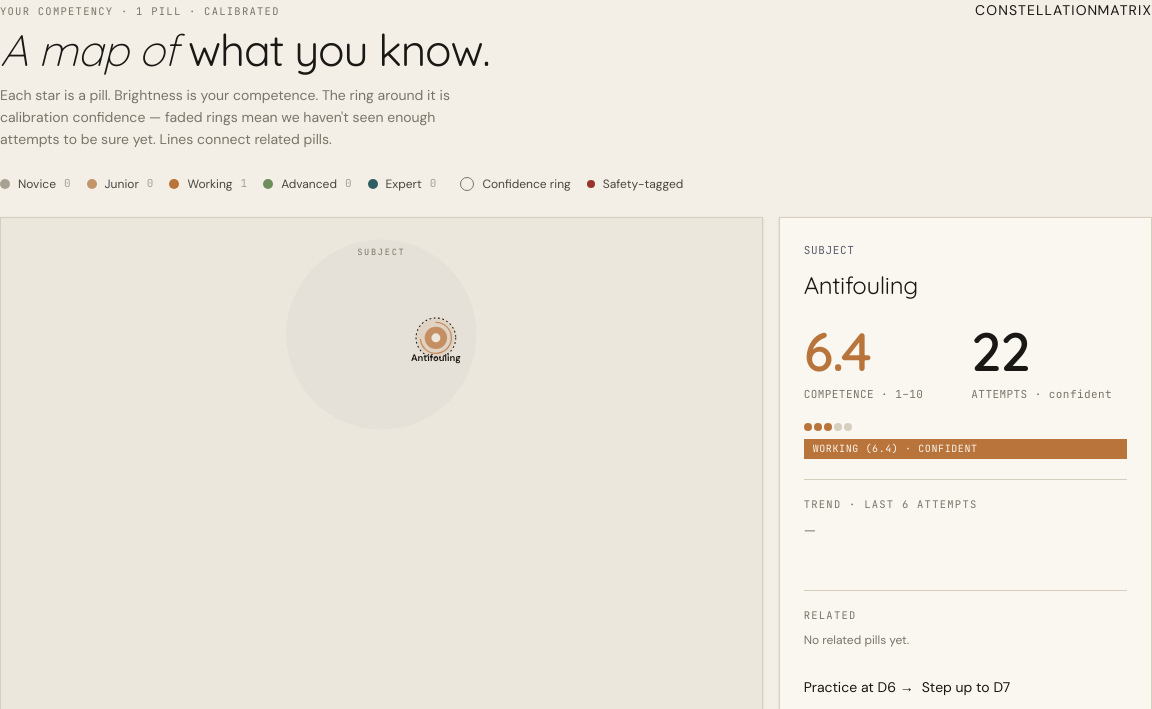
Test: Profile page · happy state › toggles between constellation SVG (with detail card + how-to-read) and the matrix table
This screenshot has width=1152, height=709.
What coordinates should you click on to do the following:
click the button "Matrix"
I would click on:
 (1125, 11)
Its box is [1097,0,1151,22].
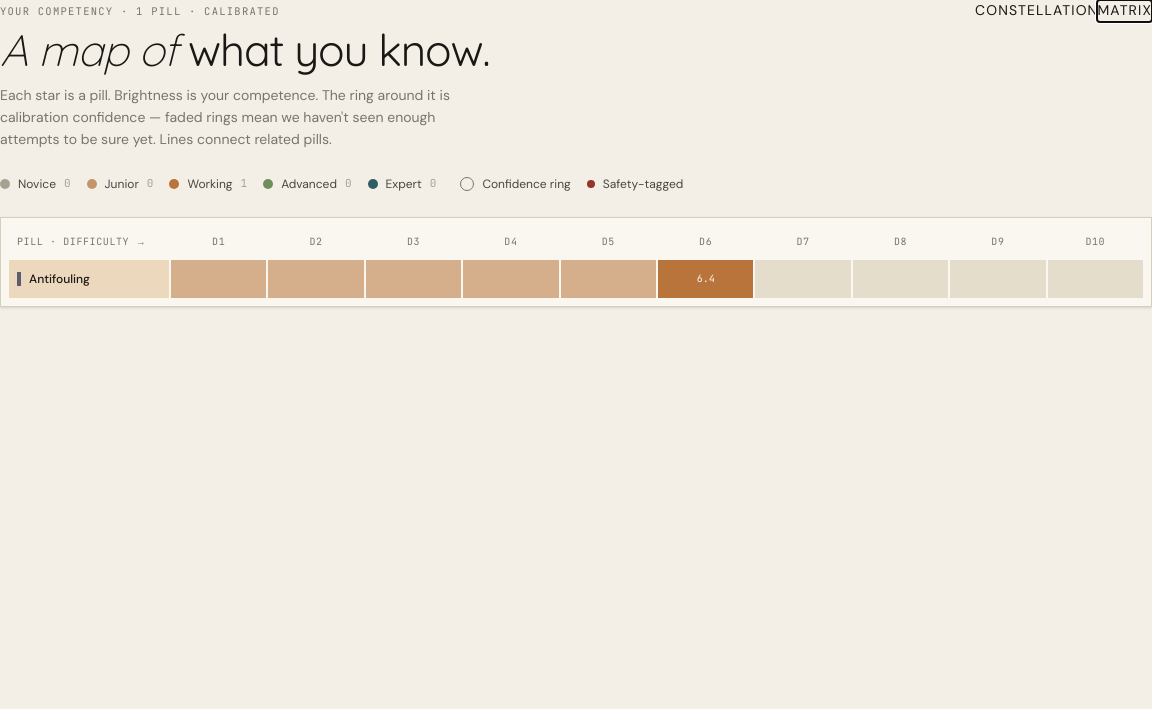
Check: the element with test id "matrix-table" is shown, box [0,217,1151,307]
What coordinates should you click on to do the following:
click the button "Constellation"
I would click on:
 (1037, 11)
Its box is [975,0,1098,22].
(page scrolled)
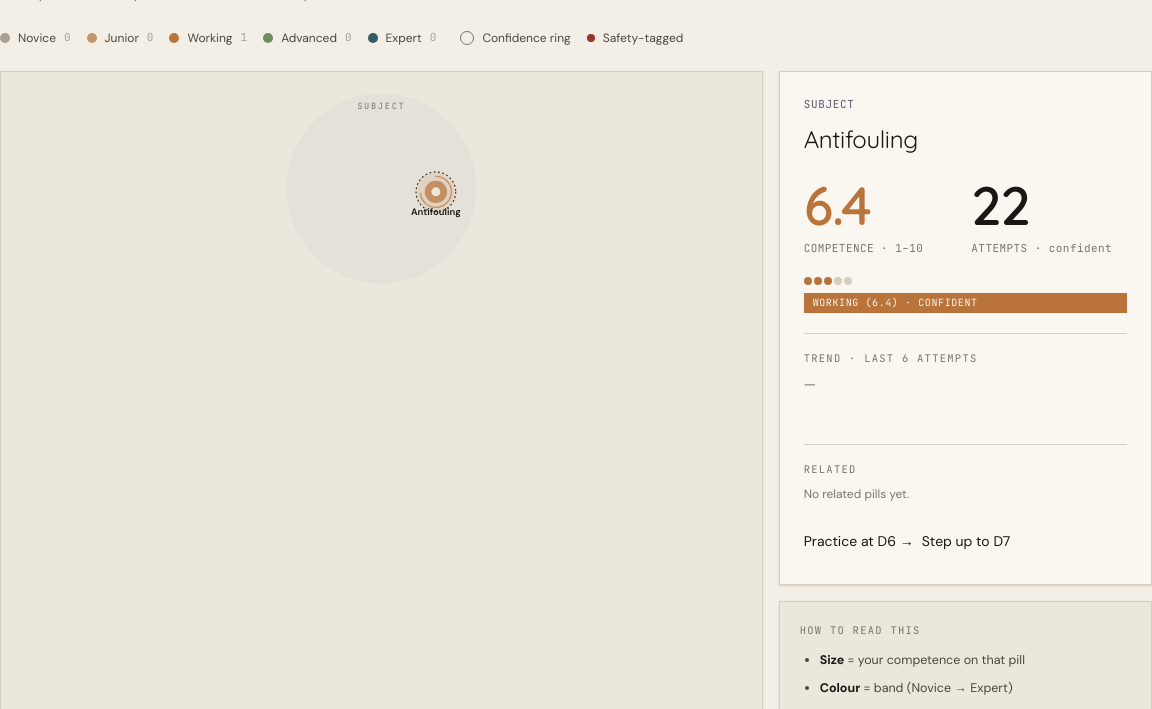
Check: the icon with test id "constellation-svg" is shown, box [1,72,762,648]
Check: the element with test id "matrix-table" is gone
